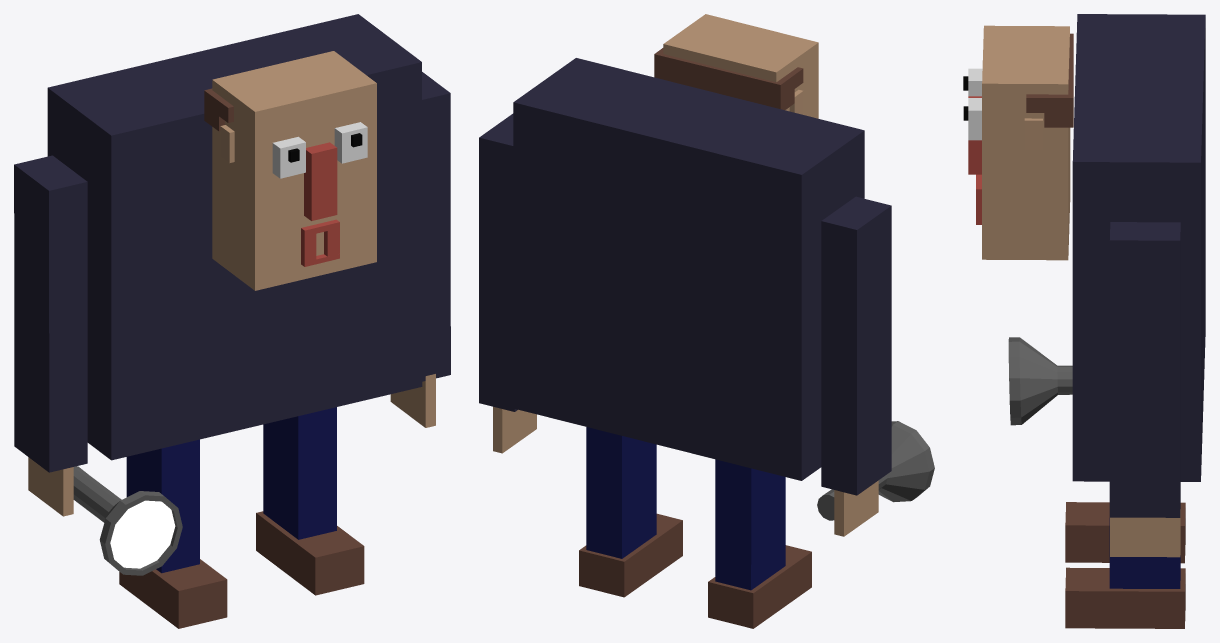
File: Man.glb
3 views of the same model, side by side, from view 1: azimuth 30°, elevation 25°; view 2: azimuth 150°, elevation 25°; view 3: azimuth 270°, elevation 25° (orthographic). The views are drawn at different scales.
Parts seen in each view (by area): view 1: Cube.016, Cube.001, Cube.004, Cube.008, Cube.003, Cylinder, Cube.007, Cube.009, Cube.010, Cube, Cube.005, Cube.006 (+4 smaller); view 2: Cube.016, Cube.004, Cube.003, Cube.008, Cube.009, Cube.001, Cube.010, Cube.007, Cube.013, Cylinder, Cube.005, Cube.006; view 3: Cube.016, Cube.003, Cube.001, Cube.007, Cylinder, Cube.010, Cube.006, Cube.008, Cube.013, Cube.014, Cube.011, Cube (+1 smaller).
Part boxes in pixels (x1,y1,x2,y2): Cube.016: (47, 14, 422, 460); Cube.001: (212, 51, 376, 290); Cube.004: (14, 155, 87, 472); Cube.008: (263, 407, 336, 539); Cube.003: (422, 72, 450, 381); Cylinder: (73, 466, 182, 575); Cube.007: (256, 511, 364, 595); Cube.009: (126, 439, 199, 573); Cube.010: (119, 559, 227, 628); Cube: (304, 142, 337, 220); Cube.005: (28, 457, 73, 516); Cube.006: (390, 374, 435, 427); Cube.016: (513, 58, 864, 480); Cube.004: (821, 196, 891, 495); Cube.003: (479, 113, 517, 411); Cube.008: (586, 427, 656, 558); Cube.009: (715, 459, 785, 590); Cube.001: (663, 14, 818, 118); Cube.010: (708, 545, 811, 628); Cube.007: (579, 513, 682, 597); Cube.013: (654, 48, 803, 110); Cylinder: (817, 421, 934, 520); Cube.005: (834, 480, 878, 536); Cube.006: (493, 406, 536, 453); Cube.016: (1072, 14, 1205, 481); Cube.003: (1109, 222, 1180, 517); Cube.001: (982, 25, 1070, 260); Cube.007: (1065, 567, 1185, 628); Cylinder: (1008, 337, 1072, 425); Cube.010: (1065, 502, 1185, 563); Cube.006: (1110, 509, 1180, 557); Cube.008: (1109, 518, 1180, 588); Cube.013: (1026, 33, 1073, 127); Cube.014: (1024, 118, 1042, 150); Cube.011: (968, 98, 981, 140); Cube: (968, 96, 981, 174).
Bounding box in the file's own units: 2.58 × 3.3 × 1.37.
